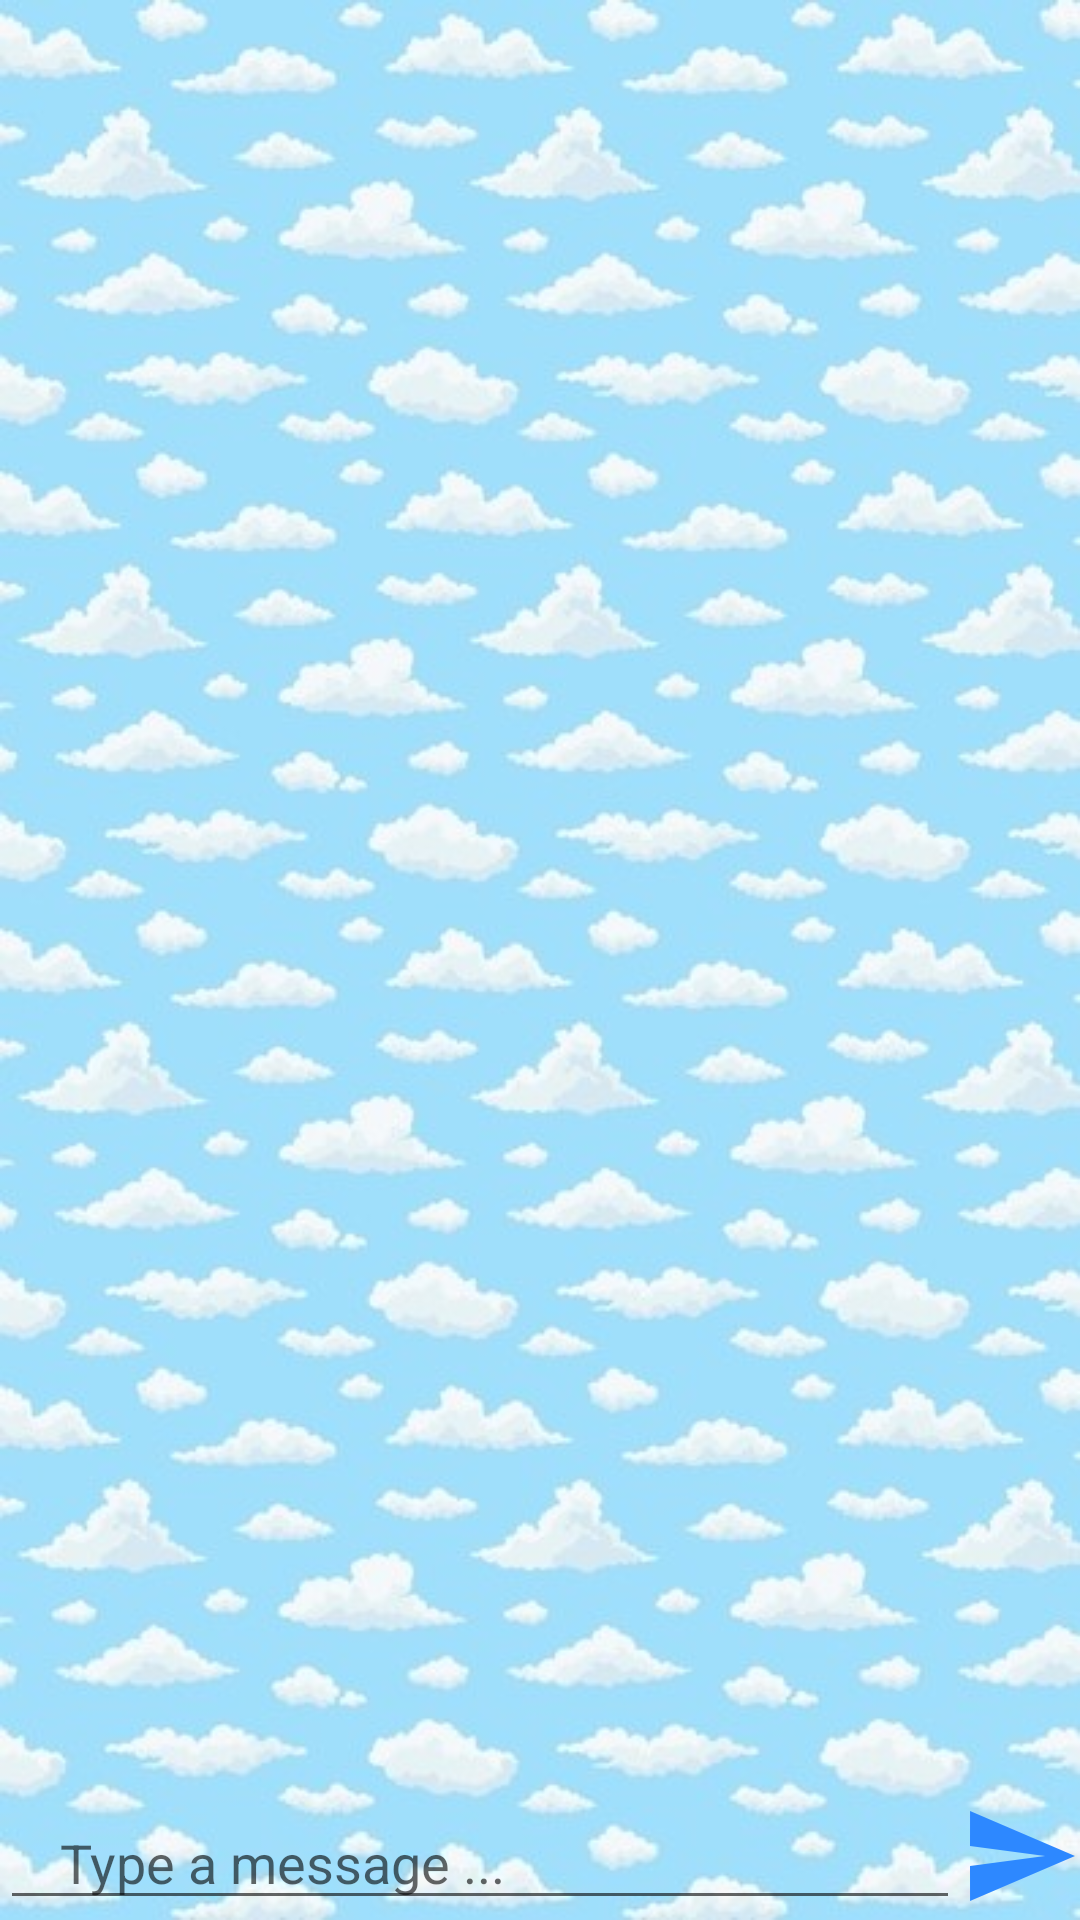

Icons on this 1080px x 1920px Android screen, each with its box as (left=x1, top=y1, right=x2, bottom=y2):
send: (left=960, top=1796, right=1080, bottom=1916)
